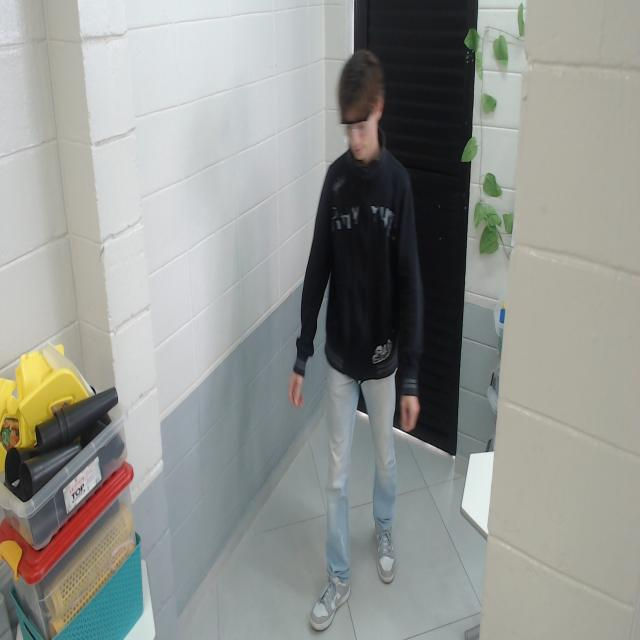oculos-epi: (341, 109, 372, 138)
